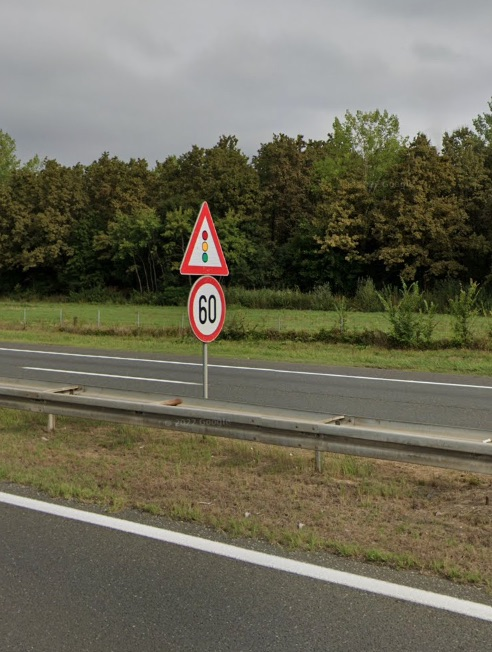Ograničenje brzine 60: (187, 275, 226, 343)
